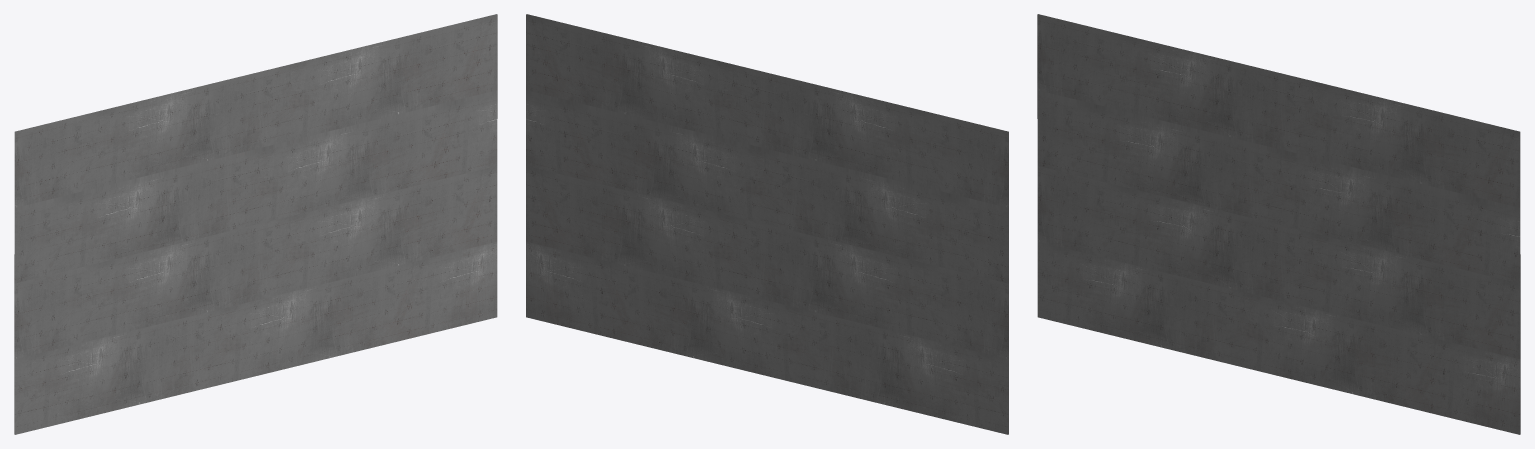
File: FncMeshALngA03.fbx
3 renders of one model, left to right at view 1: azimuth 30°, elevation 25°; view 2: azimuth 150°, elevation 25°; view 3: azimuth 330°, elevation 25°, orthographic.
Parts seen in each view (by area): view 1: FncMeshALngA03; view 2: FncMeshALngA03; view 3: FncMeshALngA03.
Part boxes in pixels (left/top/right/bottom): FncMeshALngA03: left=14, top=14, right=497, bottom=434; FncMeshALngA03: left=526, top=14, right=1008, bottom=434; FncMeshALngA03: left=1037, top=14, right=1520, bottom=434.
Bounding box in the file's own units: 250 × 150 × 0.551.
